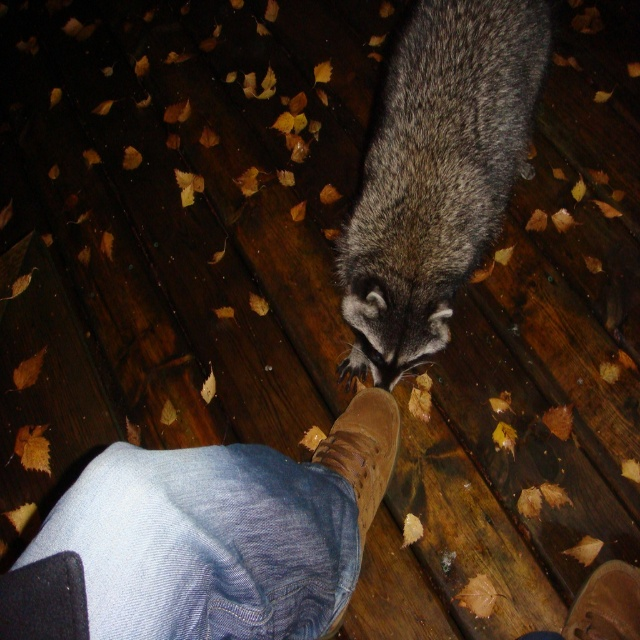Raccoon: (332, 0, 548, 394)
